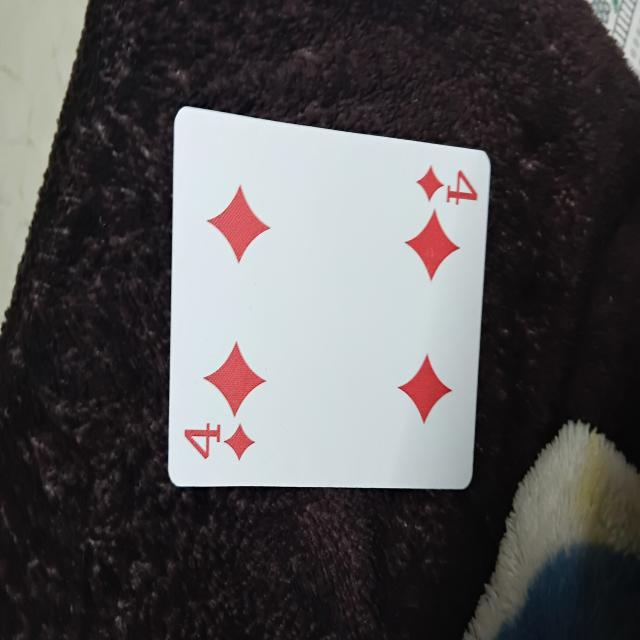4D: (166, 131, 490, 492)
